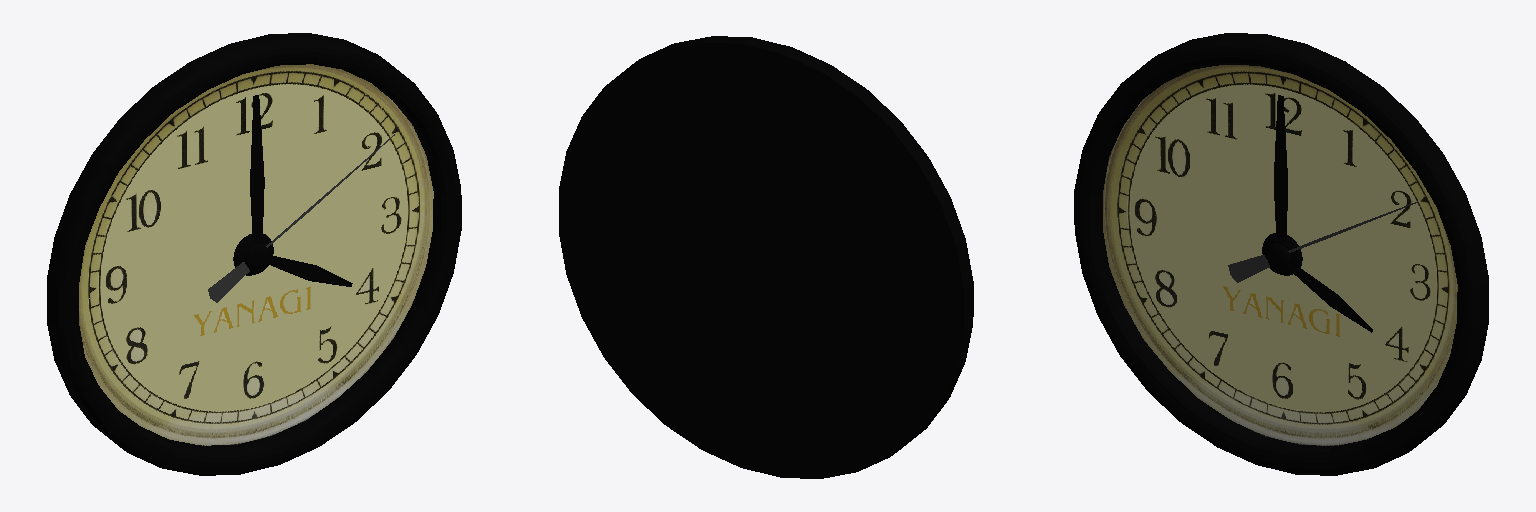
3 views of the same model, side by side, from view 1: azimuth 30°, elevation 25°; view 2: azimuth 150°, elevation 25°; view 3: azimuth 330°, elevation 25° (orthographic).
Visible parts, largest first — view 1: Clock, Long.Hand, Short.Hand, Second.Hand, Clock.Center; view 2: Clock; view 3: Clock, Long.Hand, Short.Hand, Second.Hand, Clock.Center.
Boxes of the visible parts, x1,y1,x2,y2 form: Clock: [47, 33, 461, 475]; Long.Hand: [250, 95, 264, 240]; Short.Hand: [266, 255, 352, 286]; Second.Hand: [208, 134, 394, 302]; Clock.Center: [233, 234, 273, 275]; Clock: [559, 36, 973, 478]; Clock: [1074, 33, 1488, 475]; Long.Hand: [1274, 95, 1287, 242]; Short.Hand: [1287, 261, 1372, 332]; Second.Hand: [1228, 201, 1417, 282]; Clock.Center: [1262, 233, 1302, 275].
Bounding box in the file's own units: 0.6702 × 0.6702 × 0.038.
Materials: 3 (1 with a texture image).